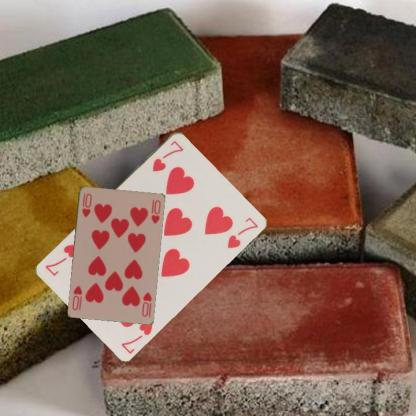10h: (139, 289, 153, 318), (79, 190, 93, 218)
7h: (118, 318, 154, 355), (150, 137, 185, 173)
